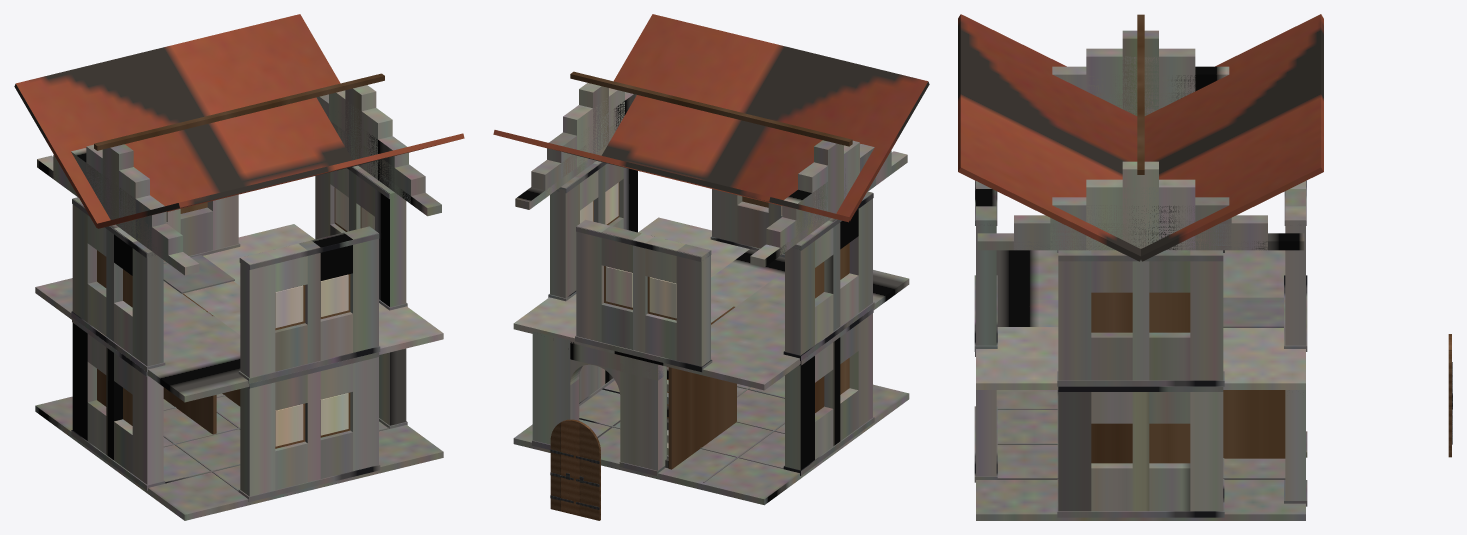
File: CastleKeepAssembled.glb
3 renders of one model, left to right at view 1: azimuth 30°, elevation 25°; view 2: azimuth 150°, elevation 25°; view 3: azimuth 270°, elevation 25°, orthographic. The views are drawn at different scales.
Visible parts, largest first — view 1: CastleKeepAssembled_body; view 2: CastleKeepAssembled_body, CastleKeepDoor_L, CastleKeepDoor_R; view 3: CastleKeepAssembled_body.
Boxes of the visible parts, bbox=[...] form: CastleKeepAssembled_body: bbox=[14, 14, 464, 520]; CastleKeepAssembled_body: bbox=[493, 14, 929, 505]; CastleKeepDoor_L: bbox=[566, 420, 600, 520]; CastleKeepDoor_R: bbox=[550, 419, 583, 514]; CastleKeepAssembled_body: bbox=[958, 14, 1323, 520].
Bounding box in the file's own units: 8.9 × 9.64 × 12.
Materials: 6 (6 with a texture image).
